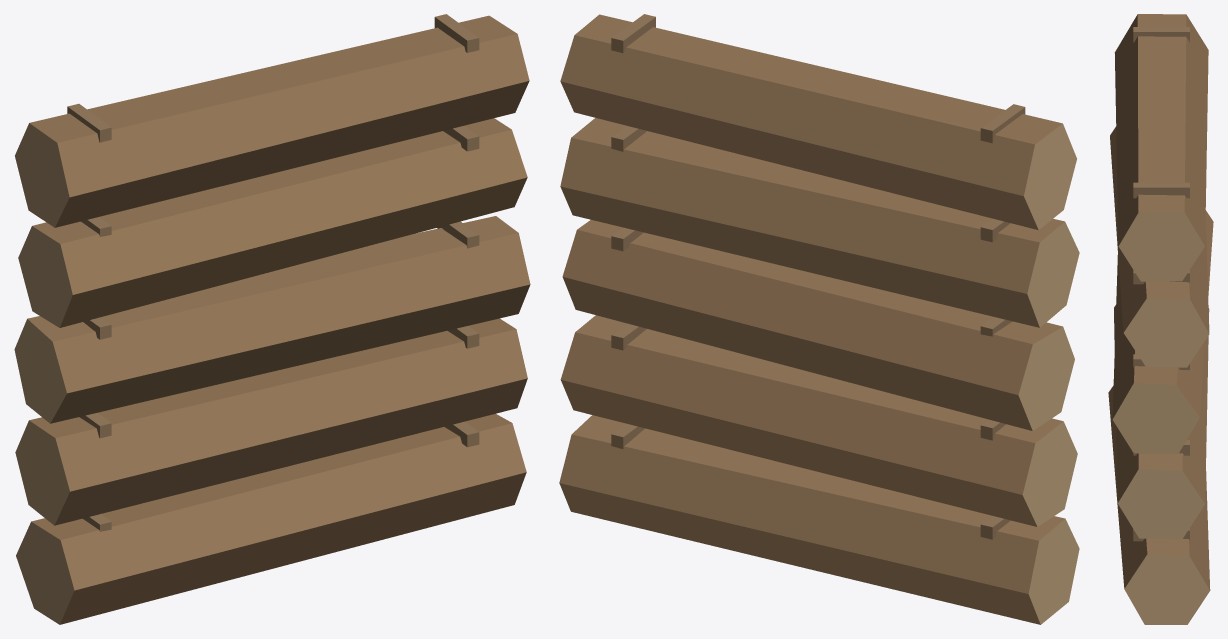
File: wall_log_half_built.glb
3 renders of one model, left to right at view 1: azimuth 30°, elevation 25°; view 2: azimuth 150°, elevation 25°; view 3: azimuth 270°, elevation 25°, orthographic. The views are drawn at different scales.
Parts seen in each view (by area): view 1: wall_log_half_built; view 2: wall_log_half_built; view 3: wall_log_half_built.
Boxes of the visible parts, x1,y1,x2,y2 form: wall_log_half_built: [14, 14, 530, 624]; wall_log_half_built: [559, 14, 1079, 624]; wall_log_half_built: [1108, 14, 1213, 624].
Size of the model in its own units: 0.989 by 0.9877 by 0.2224.
